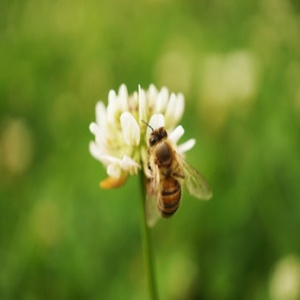bee: (143, 117, 213, 244)
